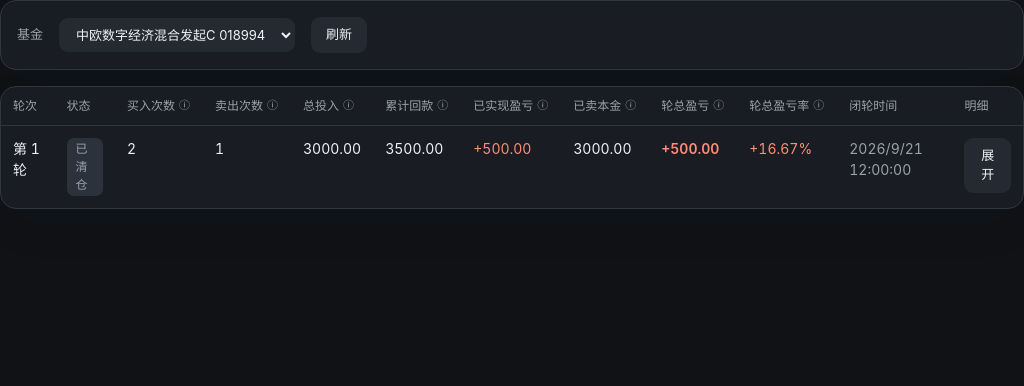
it: ClosedRounds › 展开查看交易明细（含手续费）
Expected: the text "第 1 轮" is shown, x1=1 y1=125 x2=54 y2=208
Click the button "展开" at (988, 165), box x1=964 y1=138 x2=1011 y2=192
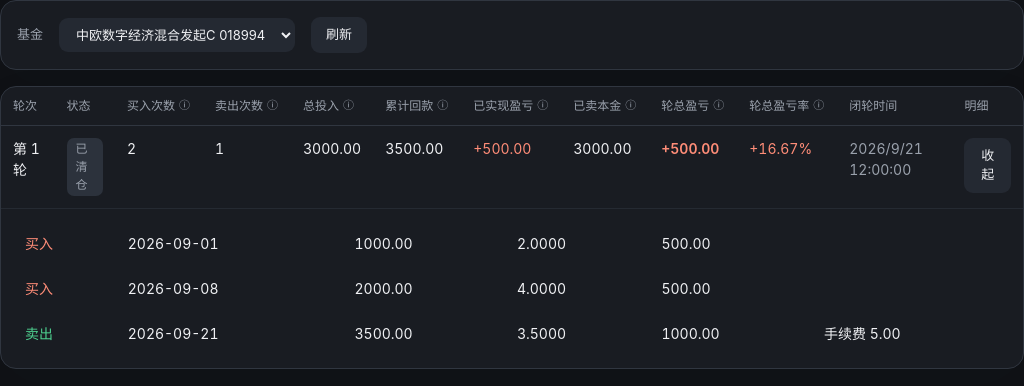
Expected: the button "收起" is shown, x1=964 y1=138 x2=1011 y2=192
Expected: the text "手续费 5.00" is shown, x1=812 y1=310 x2=1011 y2=356
